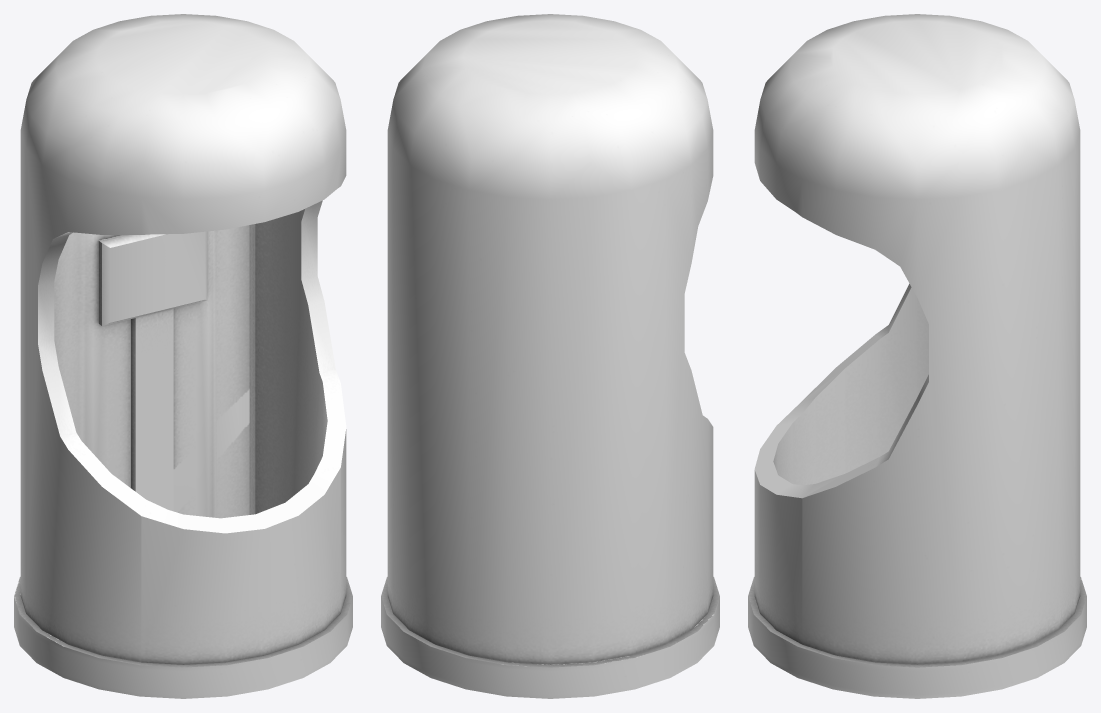
File: pod-01.obj
3 views of the same model, side by side, from view 1: azimuth 30°, elevation 25°; view 2: azimuth 150°, elevation 25°; view 3: azimuth 270°, elevation 25° (orthographic).
Visible parts, largest first — view 1: pod-01.obj; view 2: pod-01.obj; view 3: pod-01.obj.
Boxes of the visible parts, box(x1,y1,x2,y2) form: pod-01.obj: box(14, 14, 352, 698); pod-01.obj: box(381, 14, 719, 698); pod-01.obj: box(748, 14, 1086, 698).
Size of the model in its own units: 1.18 by 2.18 by 1.18.
